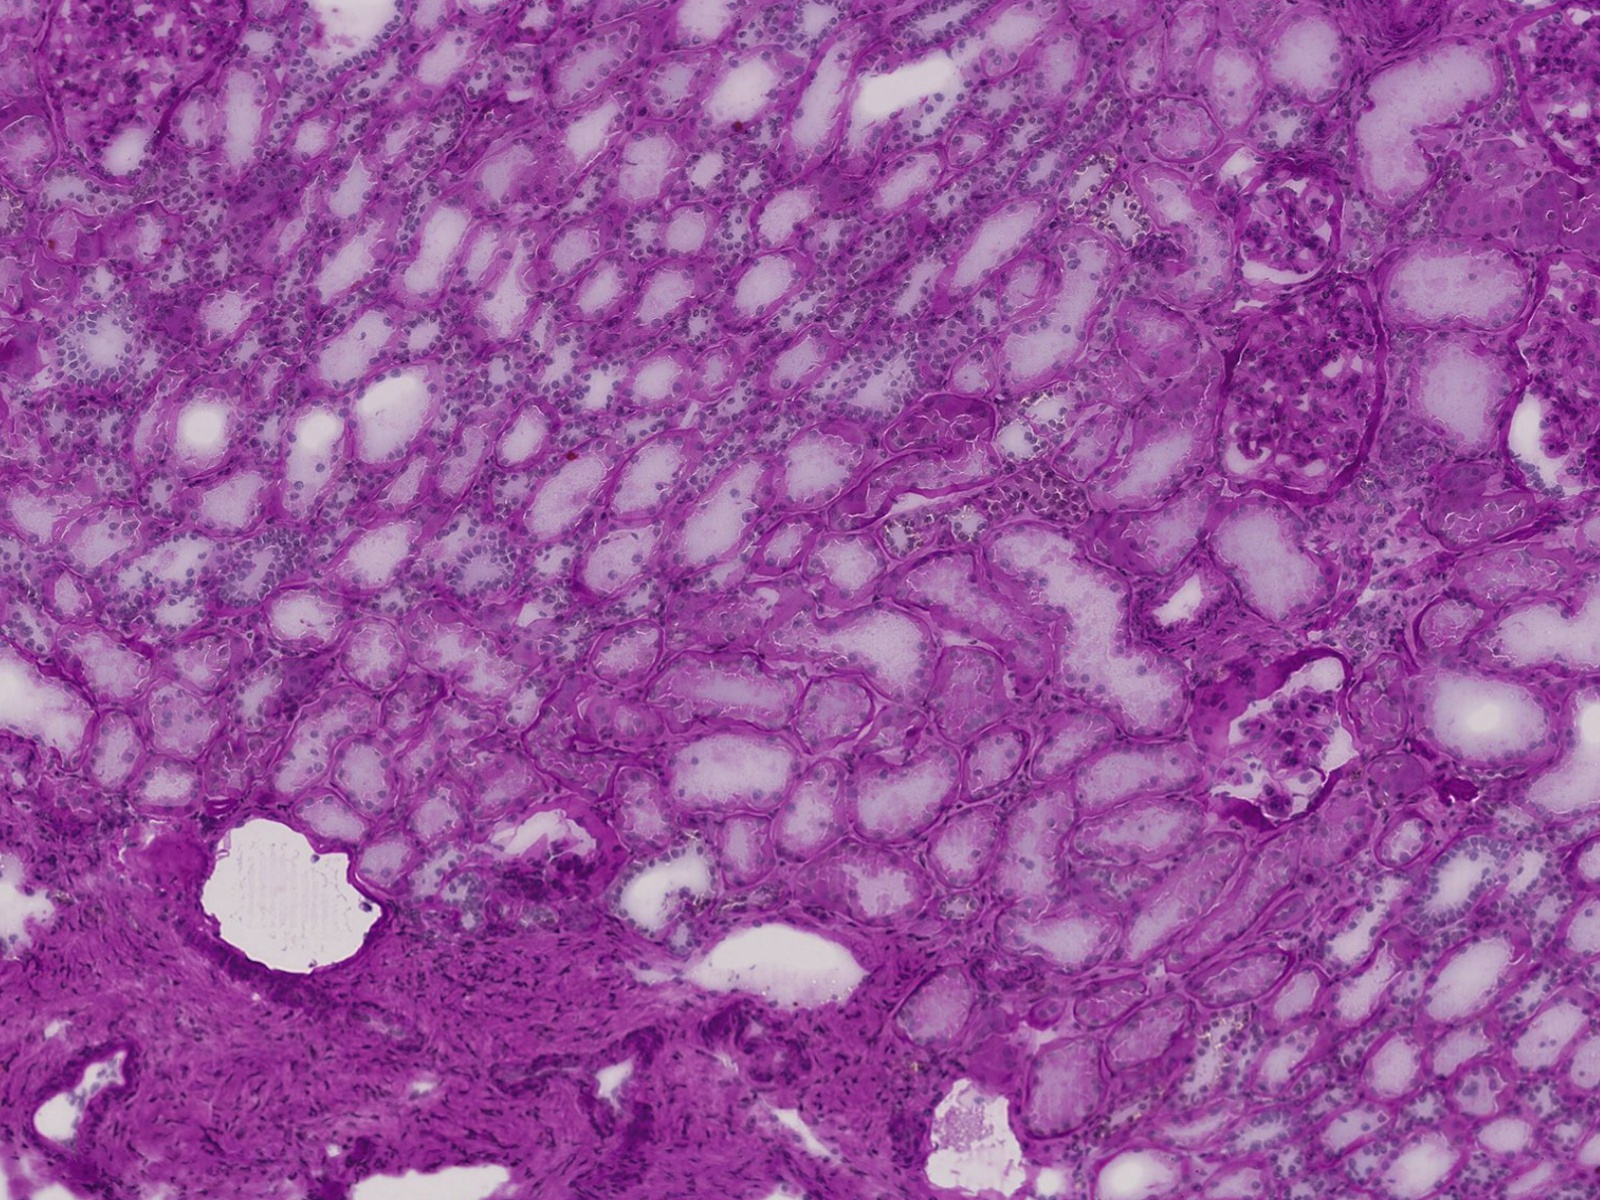Glomeruli: (1204, 279, 1392, 514), (1218, 649, 1371, 829), (1225, 137, 1351, 291), (1504, 5, 1597, 185), (1507, 241, 1592, 424)
